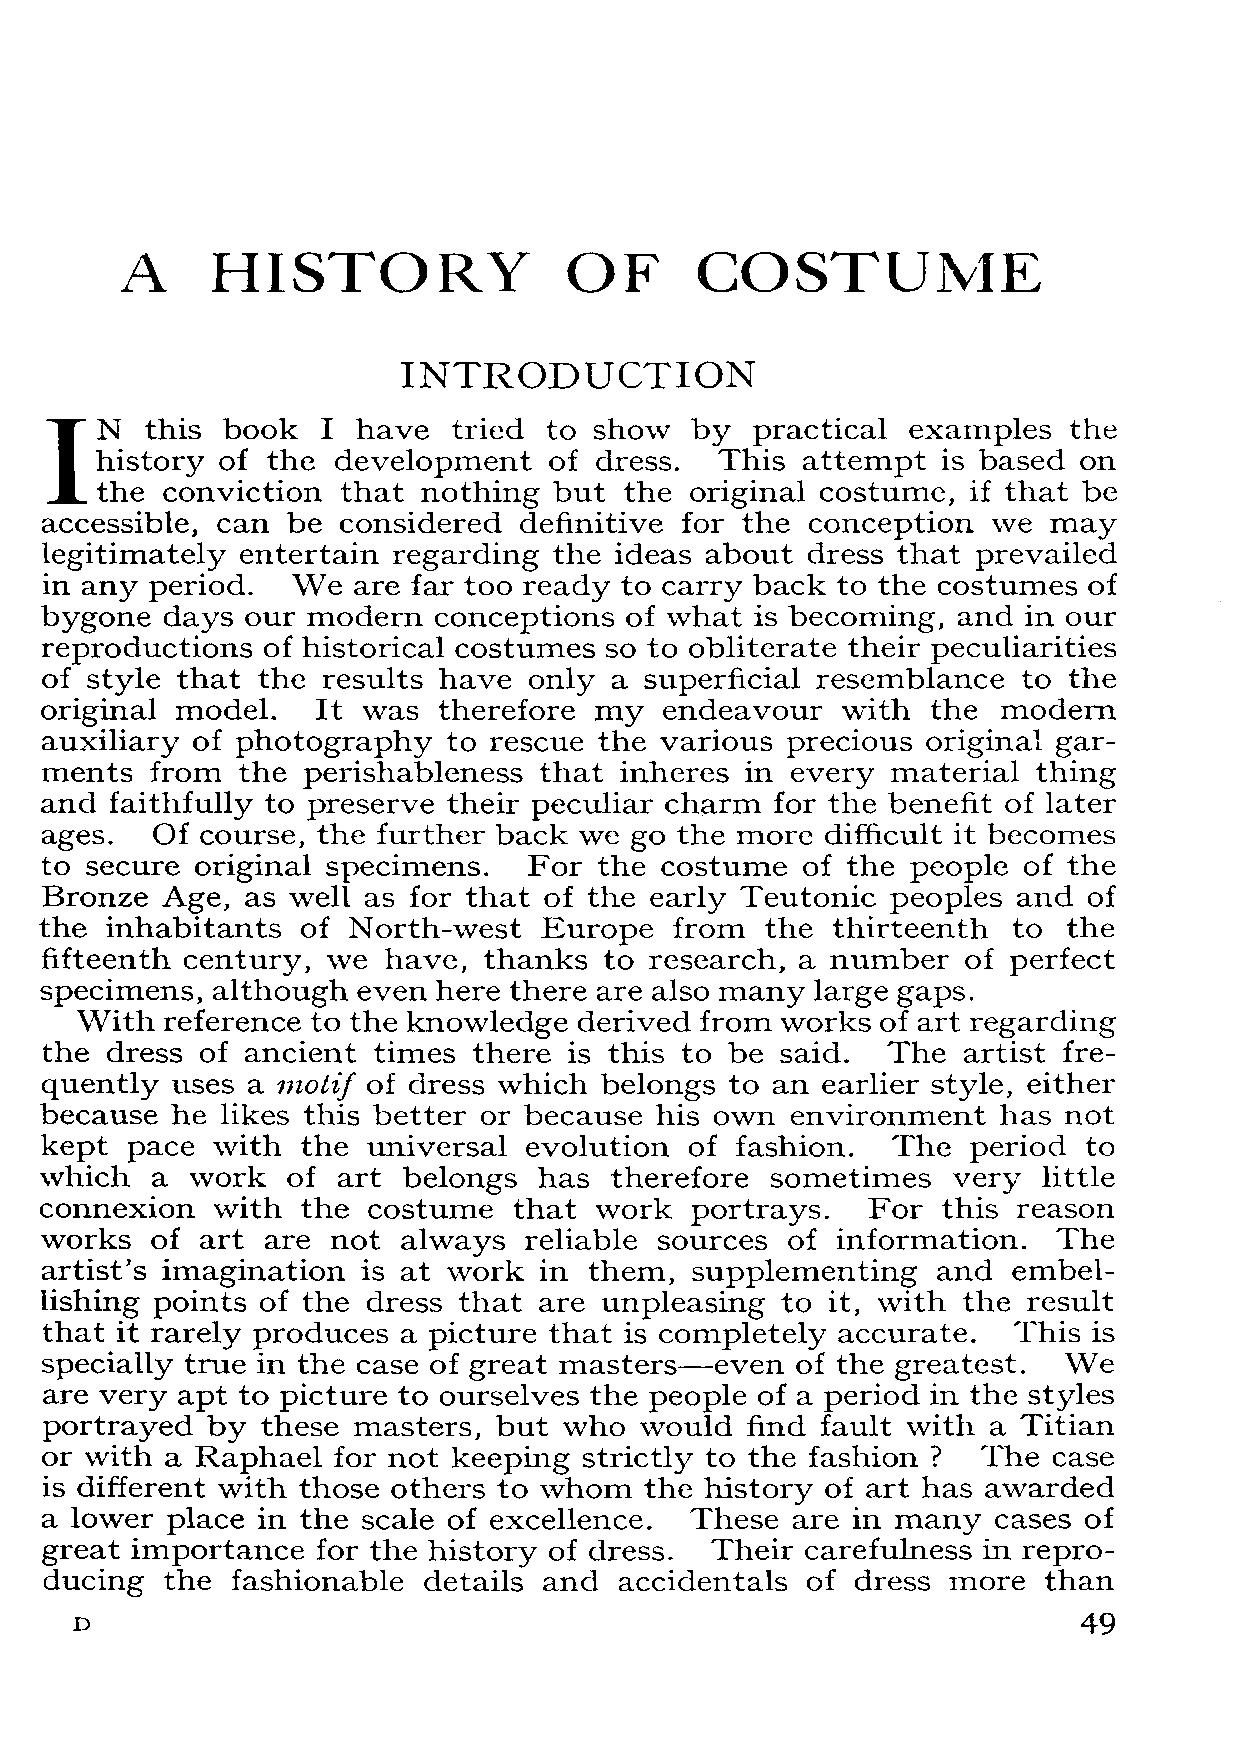chapter: (119, 248, 1040, 295), (396, 358, 756, 391)
content: (38, 415, 1119, 1596)
content_pagenumber: (1076, 1608, 1118, 1639)
